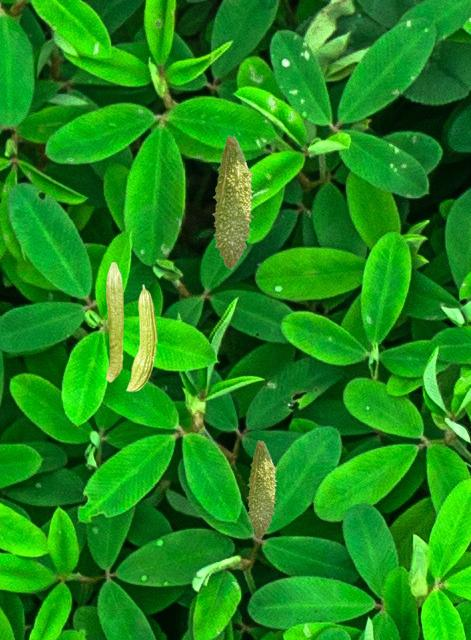ampalaya: (211, 135, 254, 270), (125, 284, 158, 392), (246, 439, 277, 538), (105, 261, 124, 382)
